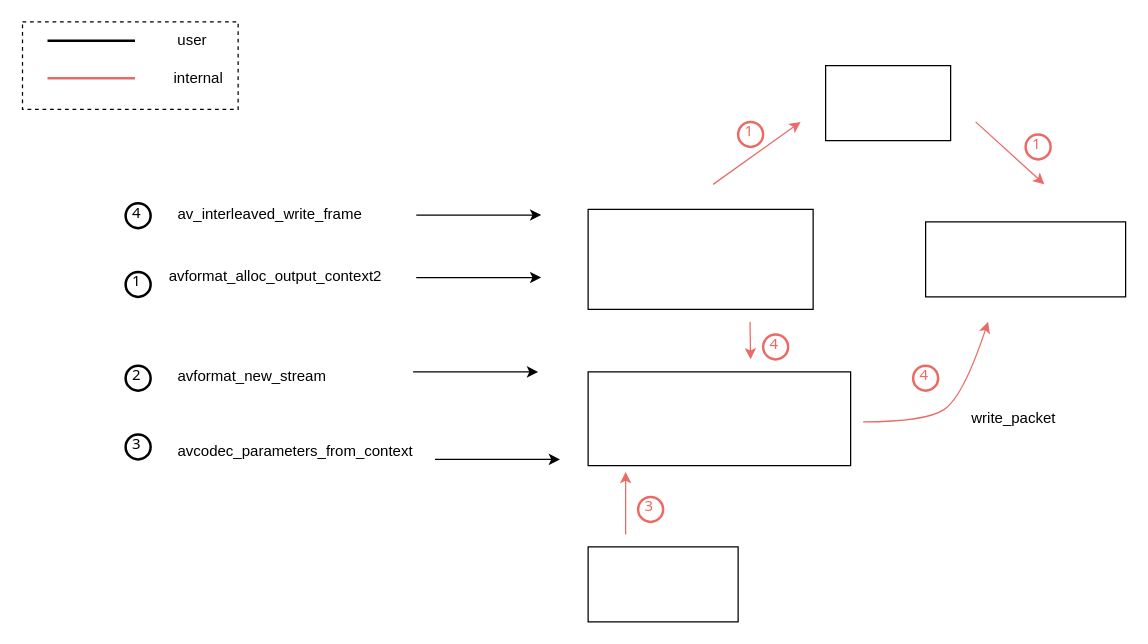
Some shapes in this 1148 by 644 pixel diagram are drawn without their labels. The centre of each missing label's shape, as x and y in pixels:
"AVCodecContext" goes at point 662,584.
"AVFormatContext AVStream **streams AVOutputFormat *oformat" goes at point 700,258.
"AVOutputFormat ff_f4v_muxer .write_packet" goes at point 1025,259.
"AVStream AVCodecParameters *codecpar" goes at point 719,418.
"muxer_list" goes at point 887,102.
